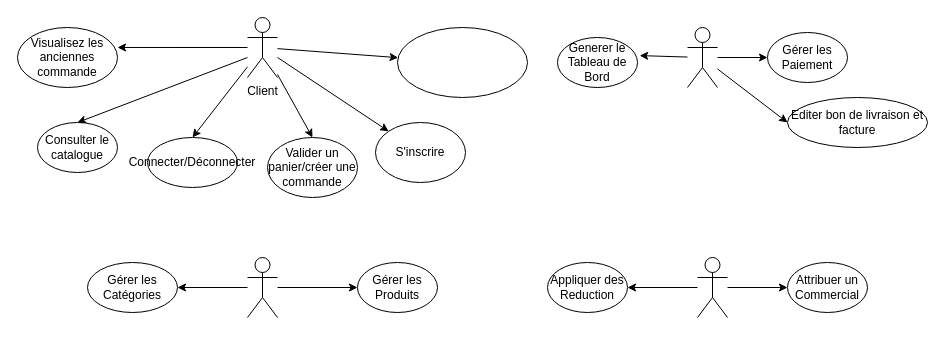
This 945x356 diagram has some shape labels left out. Each missing label, with the centre of its shape:
Administrateur: [702,57]
Ajouter/supprimer des produit du panier: [462,62]
Comercial: [712,287]
Gestionnaire Produit: [262,287]
